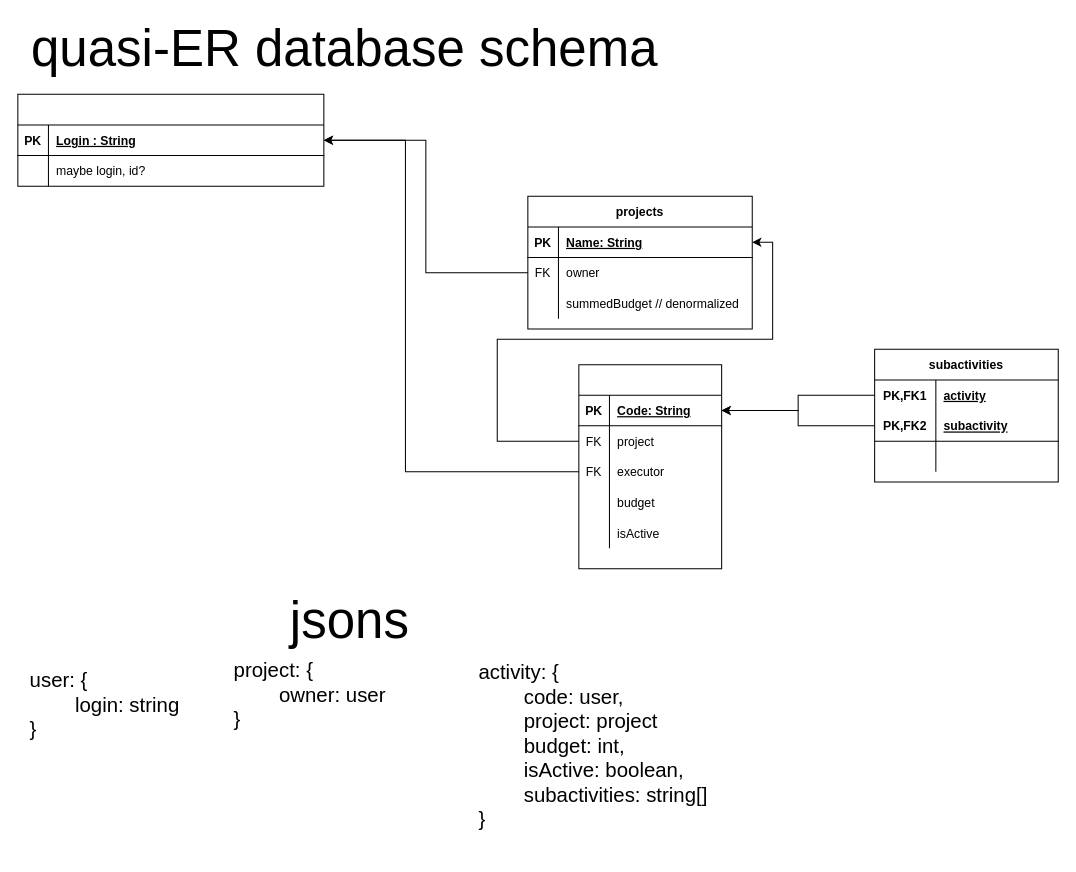
This 1076x872 diagram has some shape labels left out. Here are the shapes that lost their labels. From the top down, the box of each, then its label:
(17, 93, 324, 186): users
(578, 364, 722, 569): activities
